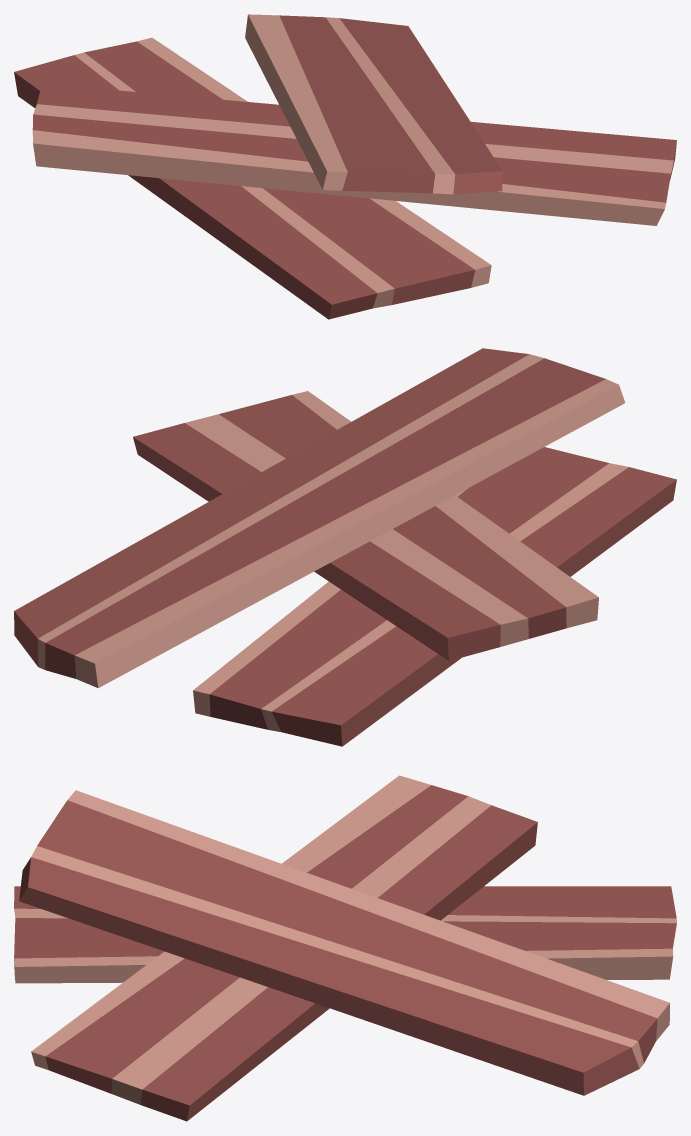
File: baconStrip03.fbx
3 views of the same model, one above another, from view 1: azimuth 30°, elevation 25°; view 2: azimuth 150°, elevation 25°; view 3: azimuth 270°, elevation 25° (orthographic). The views are drawn at different scales.
Parts seen in each view (by area): view 1: baconStrip03; view 2: baconStrip03; view 3: baconStrip03.
Boxes of the visible parts, <box> form: baconStrip03: <box>14,14,676,319</box>; baconStrip03: <box>14,348,676,746</box>; baconStrip03: <box>14,775,676,1121</box>.
Size of the model in its own units: 16.97 by 4.09 by 17.38.
1 material, 1 textured.
